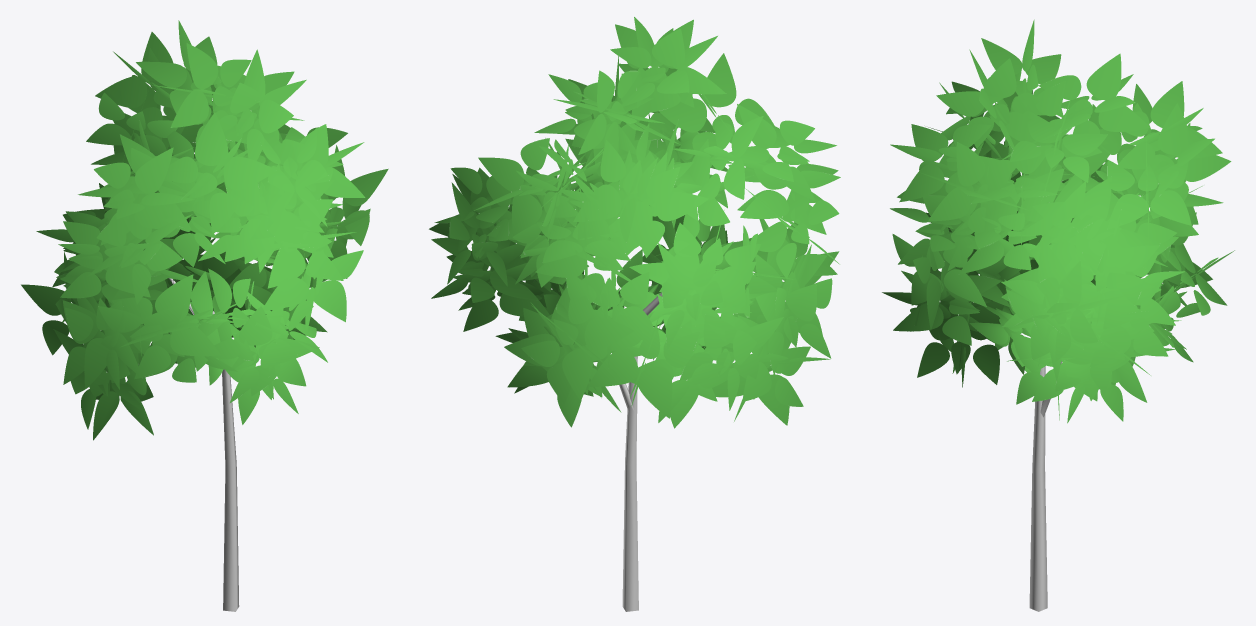
Rendered from tree2LoD2.fbx.
3 renders of one model, left to right at view 1: azimuth 30°, elevation 25°; view 2: azimuth 150°, elevation 25°; view 3: azimuth 270°, elevation 25°, orthographic. The views are drawn at different scales.
Visible parts, largest first — view 1: Hoja.009, tree.005; view 2: Hoja.009, tree.005; view 3: Hoja.009, tree.005.
Boxes of the visible parts, box(x1,y1,x2,y2) form: Hoja.009: box(21, 20, 388, 440); tree.005: box(168, 278, 239, 611); Hoja.009: box(429, 17, 840, 428); tree.005: box(619, 292, 662, 611); Hoja.009: box(882, 19, 1234, 423); tree.005: box(1029, 361, 1062, 611).
Size of the model in its own units: 455 by 693 by 404.
